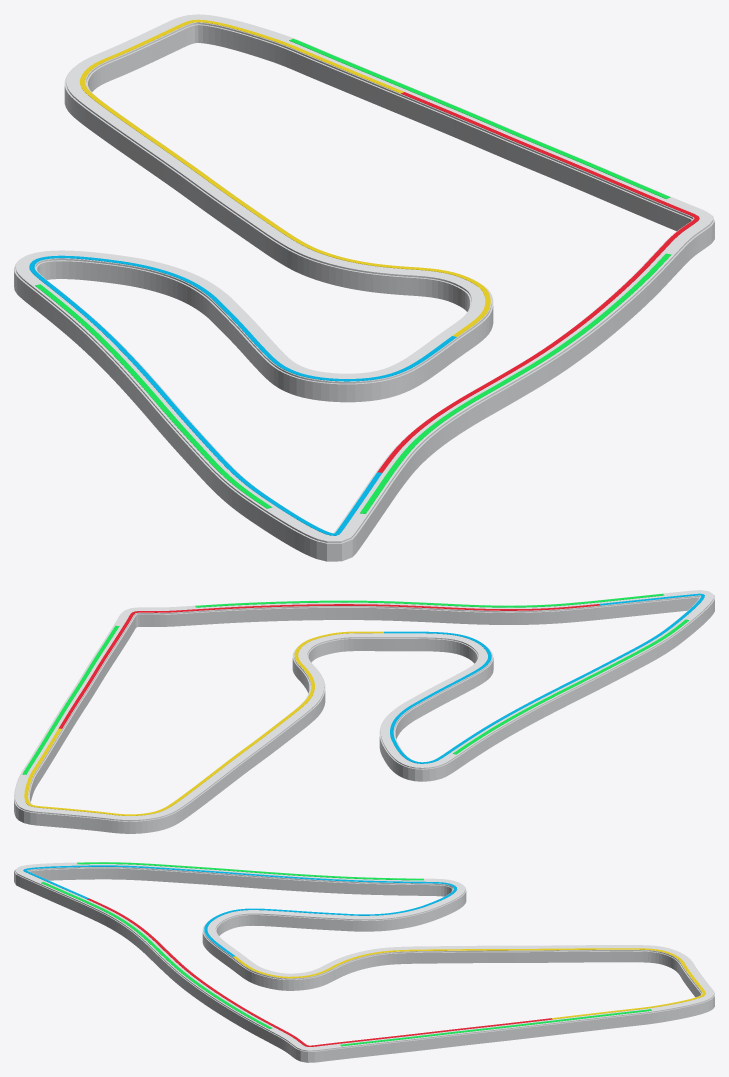
File: RedBullRingCircuit.glb
3 renders of one model, top to bottom at view 1: azimuth 30°, elevation 25°; view 2: azimuth 150°, elevation 25°; view 3: azimuth 270°, elevation 25°, orthographic. The views are drawn at different scales.
Visible parts, largest first — view 1: RedBullRingOutline, RedBullRingTrack, SectorStrip_2, SectorStrip_3, SectorStrip_1, DrsStrip_1, DrsStrip_2, DrsStrip_3; view 2: RedBullRingOutline, RedBullRingTrack, SectorStrip_2, SectorStrip_3, SectorStrip_1, DrsStrip_1, DrsStrip_2, DrsStrip_3; view 3: RedBullRingOutline, RedBullRingTrack, SectorStrip_2, SectorStrip_3, SectorStrip_1, DrsStrip_1, DrsStrip_2, DrsStrip_3.
Boxes of the visible parts, left/top/right/bottom form: RedBullRingOutline: left=14, top=24, right=714, bottom=561; RedBullRingTrack: left=15, top=14, right=713, bottom=542; SectorStrip_2: left=29, top=255, right=456, bottom=535; SectorStrip_3: left=80, top=19, right=490, bottom=336; SectorStrip_1: left=377, top=92, right=699, bottom=472; DrsStrip_1: left=360, top=253, right=671, bottom=513; DrsStrip_2: left=35, top=284, right=272, bottom=508; DrsStrip_3: left=289, top=38, right=670, bottom=198; RedBullRingOutline: left=14, top=595, right=714, bottom=833; RedBullRingTrack: left=15, top=590, right=713, bottom=821; SectorStrip_2: left=384, top=593, right=704, bottom=763; SectorStrip_3: left=24, top=631, right=383, bottom=815; SectorStrip_1: left=58, top=604, right=599, bottom=728; DrsStrip_1: left=195, top=593, right=663, bottom=607; DrsStrip_2: left=453, top=619, right=689, bottom=754; DrsStrip_3: left=22, top=625, right=119, bottom=774; RedBullRingOutline: left=14, top=868, right=714, bottom=1062; RedBullRingTrack: left=15, top=862, right=713, bottom=1051; SectorStrip_2: left=23, top=865, right=456, bottom=956; SectorStrip_3: left=233, top=948, right=705, bottom=1019; SectorStrip_1: left=87, top=898, right=552, bottom=1046; DrsStrip_1: left=41, top=882, right=272, bottom=1028; DrsStrip_2: left=77, top=862, right=423, bottom=880; DrsStrip_3: left=340, top=1009, right=651, bottom=1046.
Bounding box in the file's own units: 16.52 × 0.497 × 25.84.
